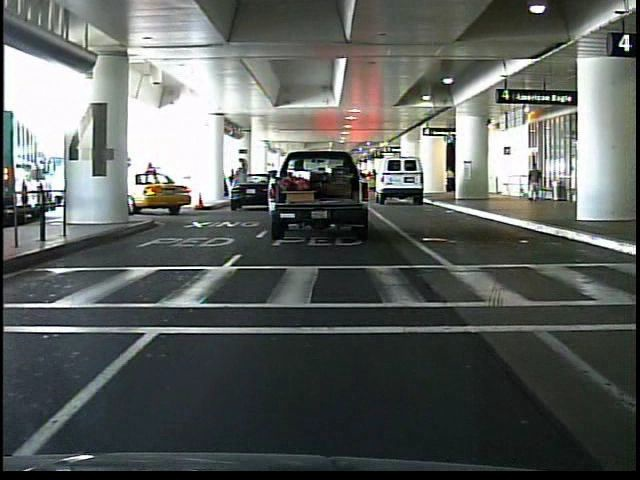person: (526, 158, 546, 207), (442, 165, 456, 199)
